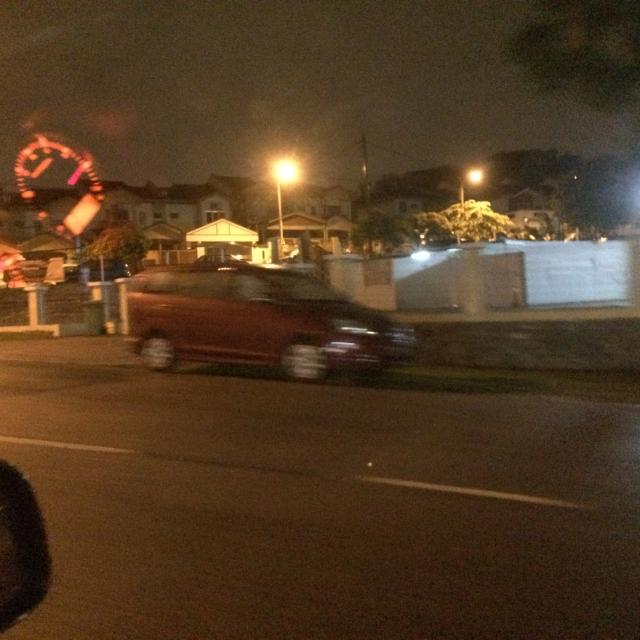Car: (97, 247, 415, 412)
